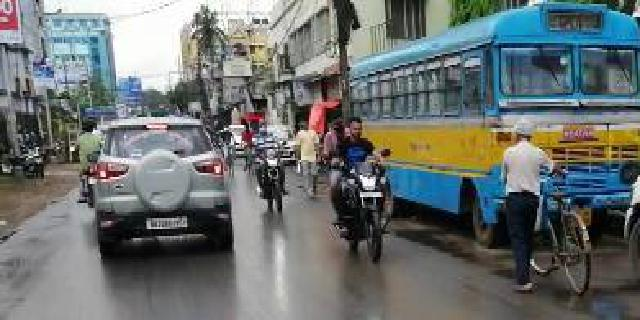Bus: (353, 1, 639, 227)
Car: (87, 117, 233, 254)
Cycle: (502, 123, 608, 294)
Motorbike: (341, 112, 401, 261), (255, 124, 295, 216)
